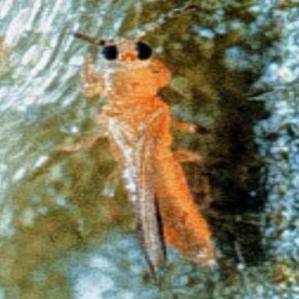melon thrips: (57, 13, 242, 293)
